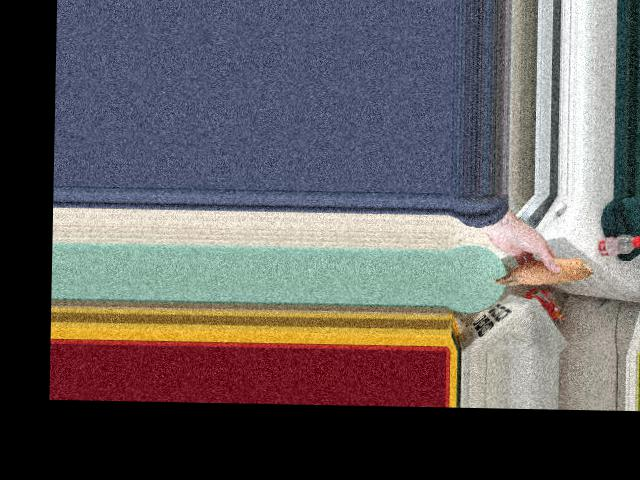sweet_potato: (488, 261, 596, 289)
